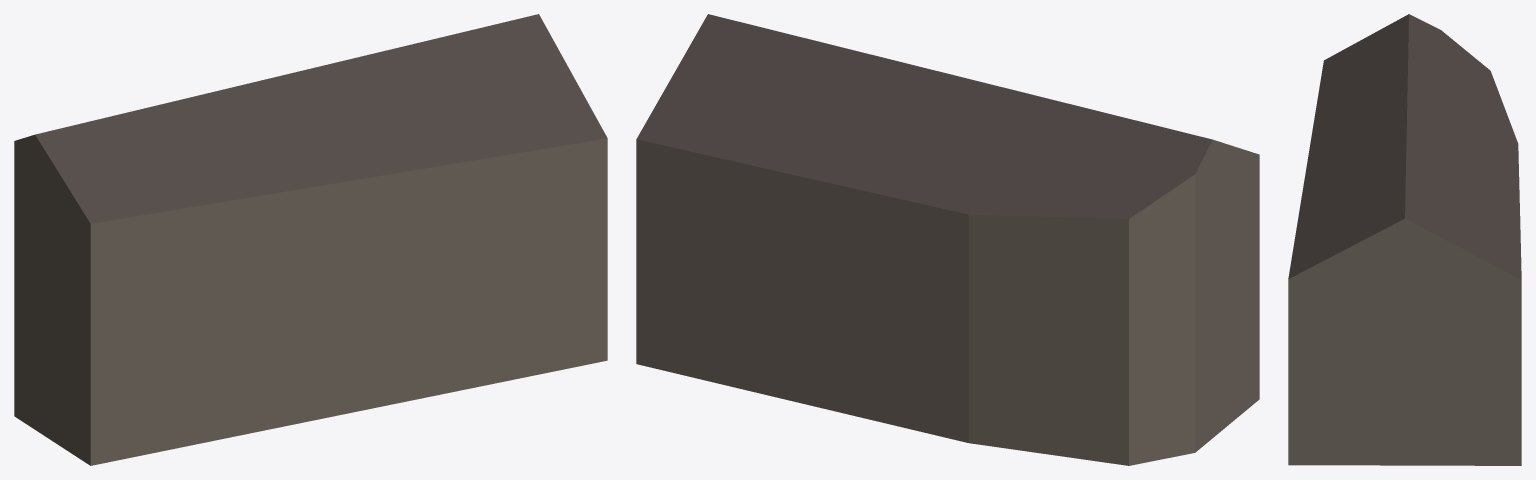
3 views of the same model, side by side, from view 1: azimuth 30°, elevation 25°; view 2: azimuth 150°, elevation 25°; view 3: azimuth 270°, elevation 25° (orthographic). The views are drawn at different scales.
Parts seen in each view (by area): view 1: HP-w1515071151; view 2: HP-w1515071151; view 3: HP-w1515071151.
Part boxes in pixels (<box>): HP-w1515071151: <box>14,14,607,465</box>; HP-w1515071151: <box>636,14,1259,465</box>; HP-w1515071151: <box>1288,14,1521,465</box>.
Bounding box in the file's own units: 14.25 × 7.97 × 6.83.
